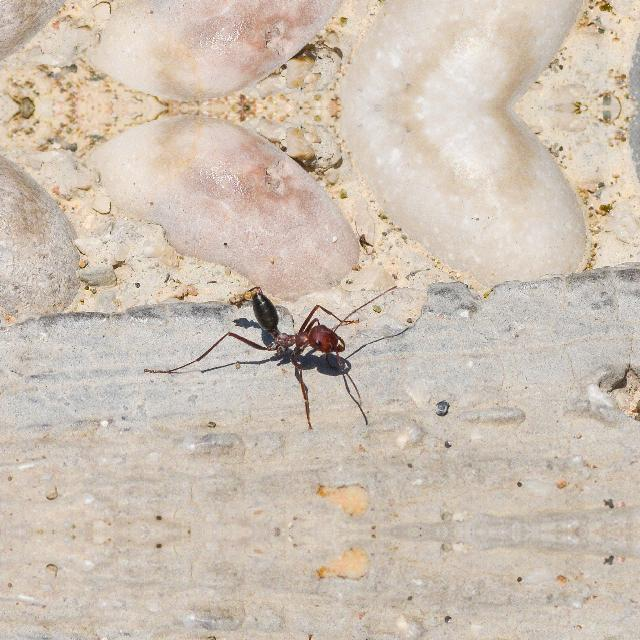Cataglyphis: (214, 290, 376, 400)
